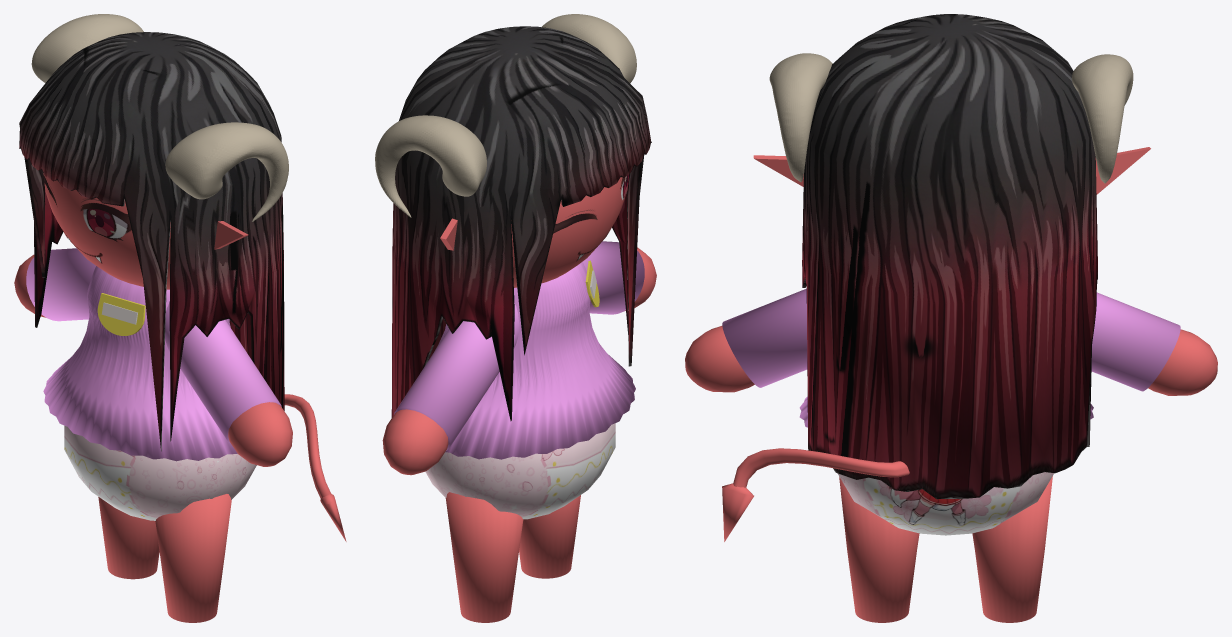
Rendered from lolodiaperdoll.glb.
The picture shows the model from 3 angles, left to right: view 1: azimuth 30°, elevation 25°; view 2: azimuth 150°, elevation 25°; view 3: azimuth 270°, elevation 25°; orthographic projection. The views are drawn at different scales.
Visible parts, largest first — view 1: head.001, head, head.002, head.006, head.005, BezierCurve, Cylinder.003, head.004, Cylinder.002; view 2: head.001, head, head.002, head.005, head.006; view 3: head.001, head, head.005, head.006, BezierCurve, Cone.001, head.003.
Part boxes in pixels (box(x1,y1,x2,y2)): head.001: box(19, 32, 284, 451); head: box(14, 173, 292, 622); head.002: box(43, 266, 237, 461); head.006: box(165, 122, 288, 221); head.005: box(31, 14, 143, 82); BezierCurve: box(284, 394, 331, 498); Cylinder.003: box(97, 293, 145, 335); head.004: box(214, 221, 248, 249); Cylinder.002: box(101, 302, 137, 324); head.001: box(391, 26, 651, 421); head: box(382, 174, 656, 622); head.002: box(435, 262, 635, 459); head.005: box(375, 115, 486, 217); head.006: box(541, 14, 636, 83); head.001: box(802, 14, 1097, 499); head: box(685, 288, 1217, 622); head.005: box(1072, 54, 1133, 183); head.006: box(769, 53, 832, 182); BezierCurve: box(733, 448, 909, 487); Cone.001: box(722, 483, 753, 541); head.003: box(1095, 147, 1150, 194).
Bounding box in the file's own units: 2.45 × 5.7 × 4.75.
11 materials, 3 textured.
